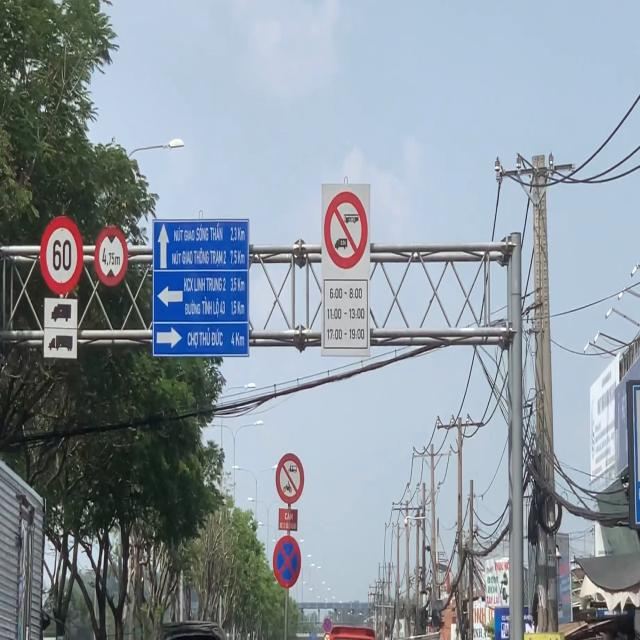Cam con lai: (324, 192, 368, 272), (276, 454, 304, 505)
Cam dung va do: (272, 535, 303, 589)
Chieu cao toi da: (93, 223, 127, 287)
Toc do toi da: (38, 216, 83, 296)
